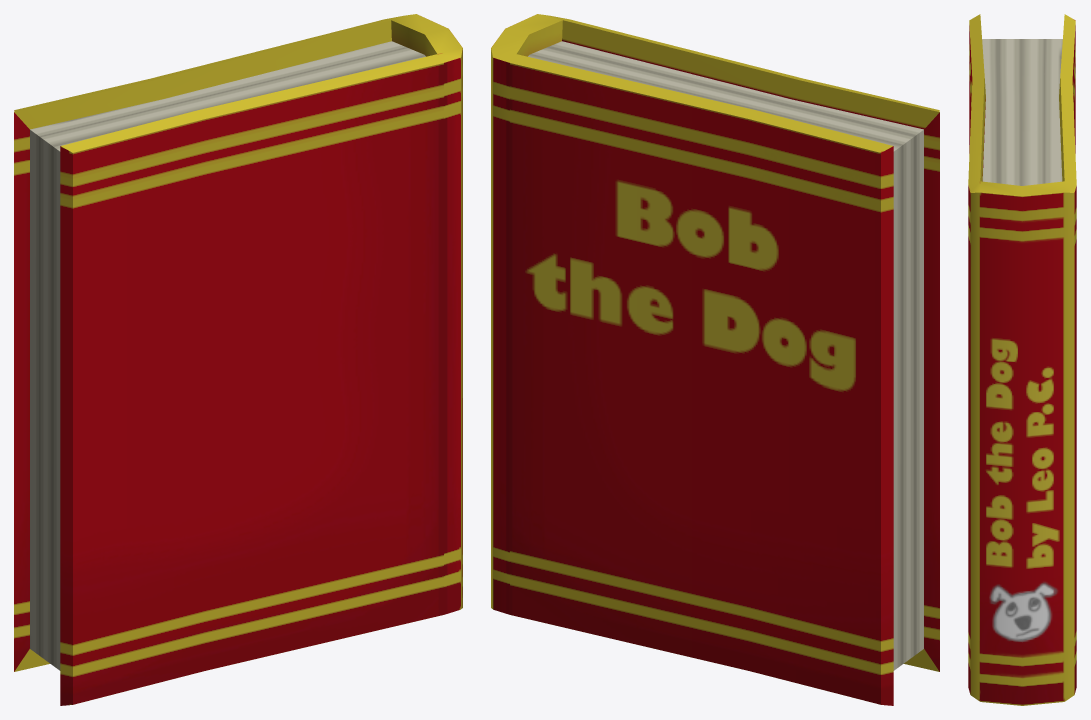
File: normalstandingbook.fbx
3 renders of one model, left to right at view 1: azimuth 30°, elevation 25°; view 2: azimuth 150°, elevation 25°; view 3: azimuth 270°, elevation 25°, orthographic. The views are drawn at different scales.
Parts seen in each view (by area): view 1: prop_bossbook; view 2: prop_bossbook; view 3: prop_bossbook.
Part boxes in pixels (left/top/right/bottom): prop_bossbook: left=14, top=14, right=462, bottom=705; prop_bossbook: left=491, top=14, right=939, bottom=705; prop_bossbook: left=968, top=14, right=1076, bottom=705.
Bounding box in the file's own units: 137 × 178 × 34.37.
